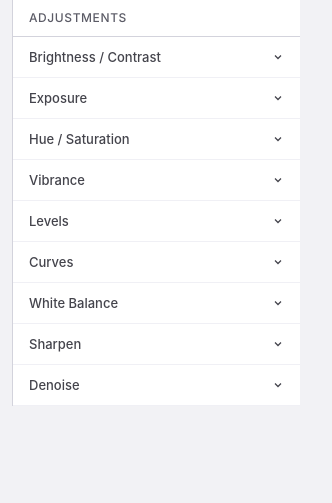
it: AdjustmentsPanel › clicking a section opens it
Click the button "Brightness / Contrast": [156, 57] box x1=13 y1=37 x2=300 y2=77
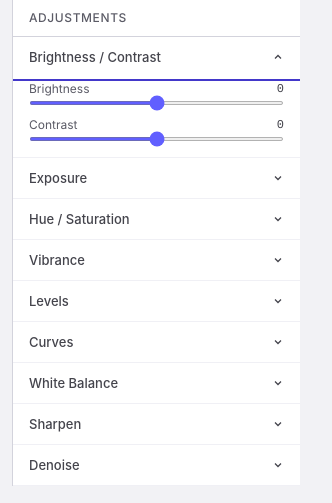
Expected: the number of sliders is 2, x1=29 y1=101 x2=284 y2=105; x1=29 y1=137 x2=284 y2=141
